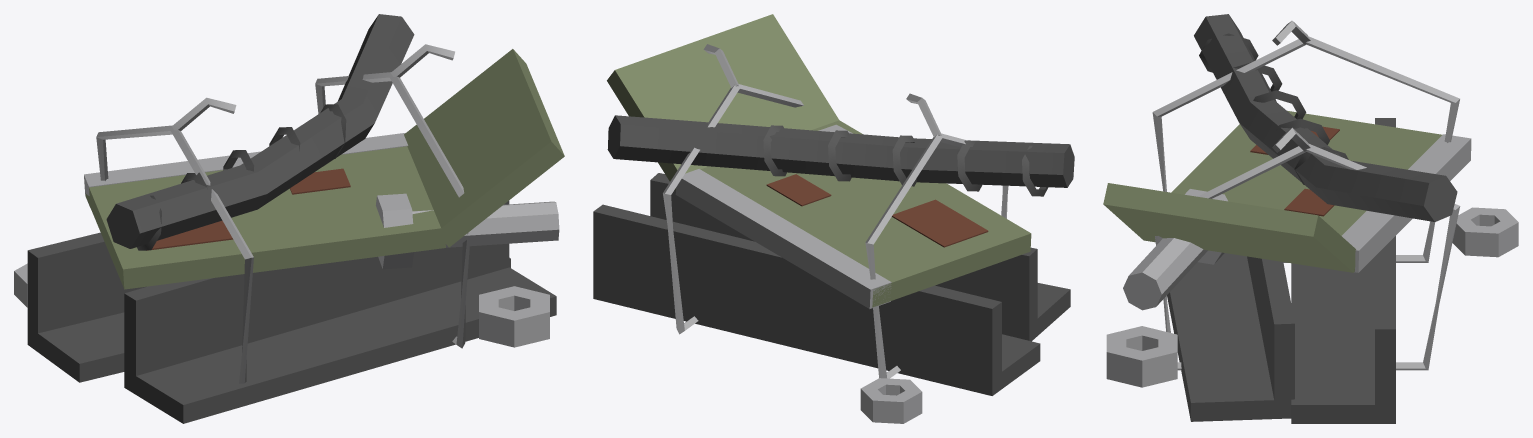
The model's file is scrap_metal.glb.
3 views of the same model, side by side, from view 1: azimuth 30°, elevation 25°; view 2: azimuth 150°, elevation 25°; view 3: azimuth 270°, elevation 25° (orthographic). The views are drawn at different scales.
Visible parts, largest first — view 1: body; view 2: body; view 3: body.
Part boxes in pixels (x1,y1,x2,y2): body: [14, 14, 564, 423]; body: [593, 14, 1074, 423]; body: [1103, 14, 1518, 423].
Size of the model in its own units: 0.0711 by 0.0377 by 0.0557.
